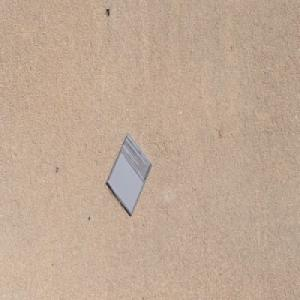PlasticPart: (106, 131, 153, 216)
